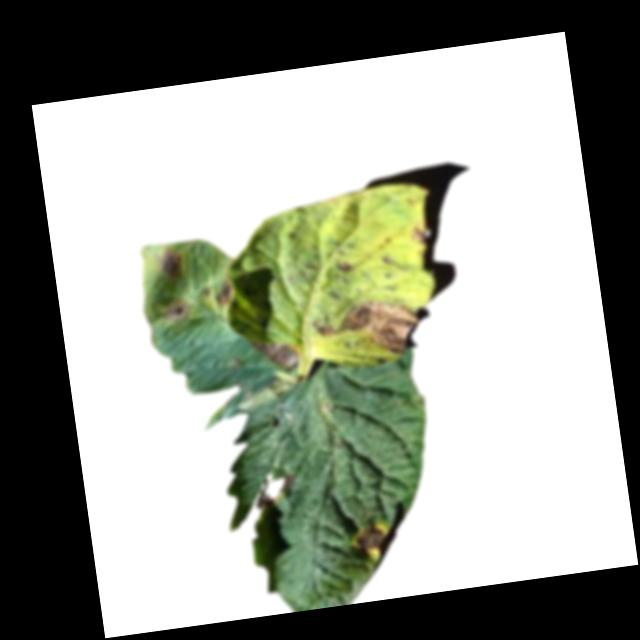Early_blight: (308, 291, 422, 364), (250, 334, 302, 374), (251, 471, 300, 510), (348, 523, 386, 553), (157, 248, 186, 282), (162, 295, 192, 323), (211, 275, 232, 306), (408, 224, 427, 245), (334, 257, 353, 272)
